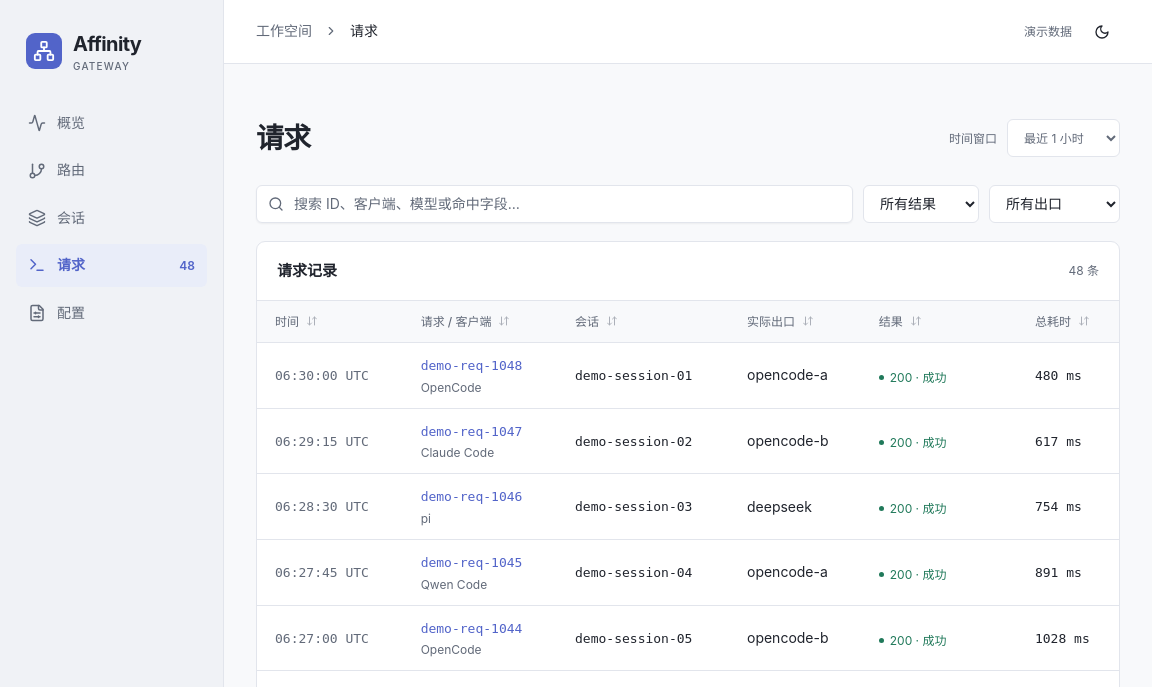
Test: read-only console › searches and clears empty results
Step 1. Type "nothing-matches" into the field named "搜索请求或会话" → (554, 204), box x1=256 y1=185 x2=853 y2=223
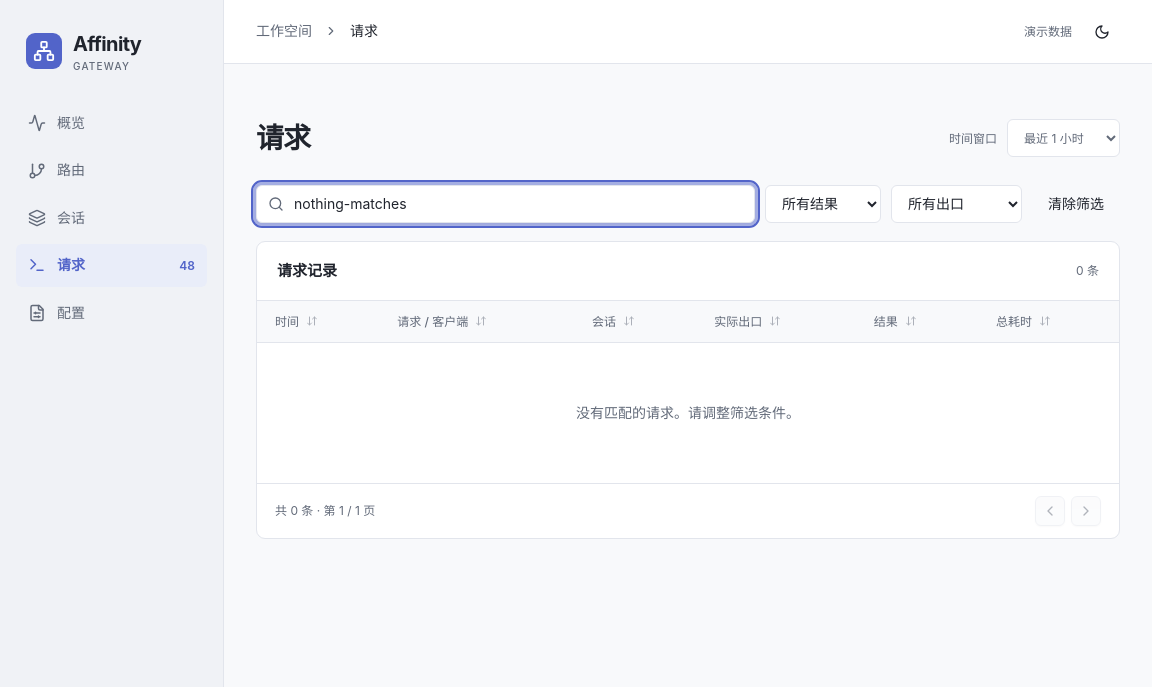
Result: the text "没有匹配的请求。请调整筛选条件。" is shown at x1=576 y1=404 x2=800 y2=421
Step 2. Click the button "清除筛选" → (1076, 204), box x1=1032 y1=186 x2=1120 y2=222
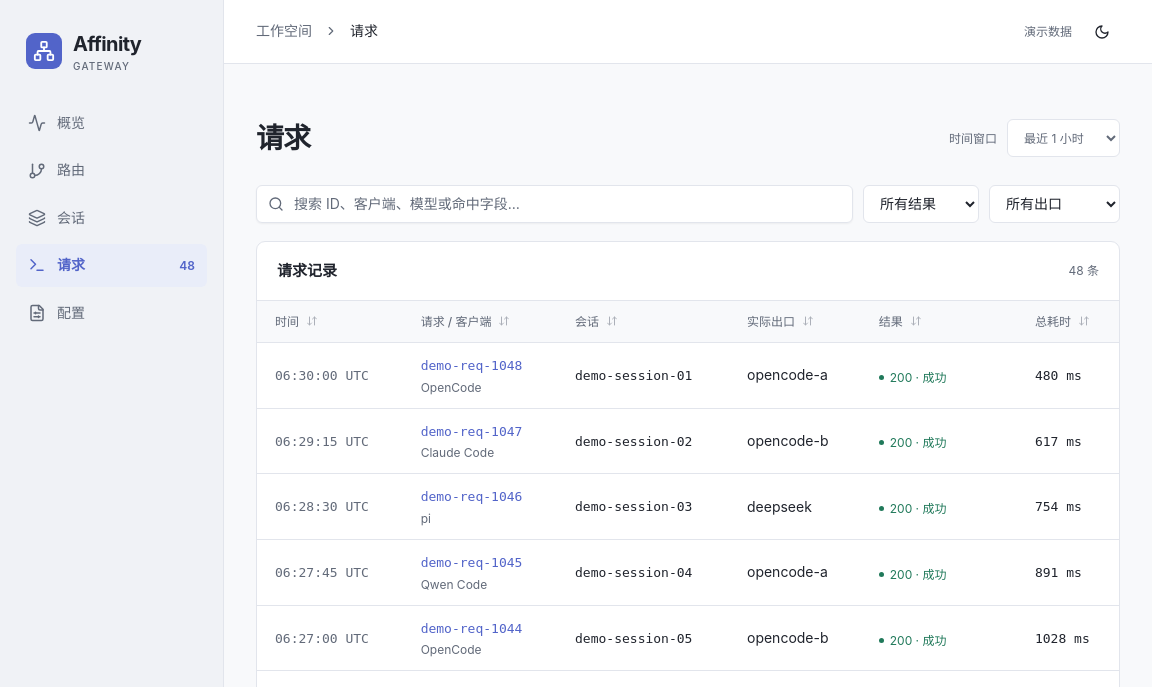
Result: the link "demo-req-1048" is shown at x1=421 y1=358 x2=522 y2=373
